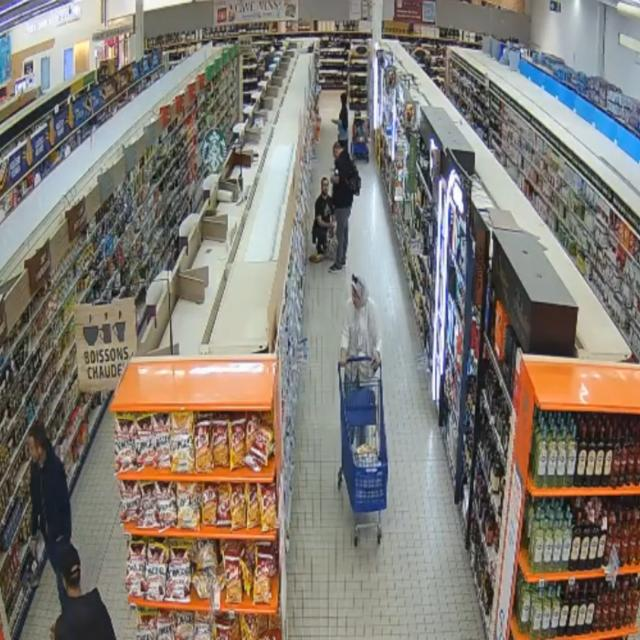article: (330, 227, 335, 238)
bags: (349, 161, 361, 196), (324, 229, 338, 257)
hands: (29, 536, 37, 557), (372, 352, 380, 371), (50, 621, 57, 639), (340, 349, 347, 366), (330, 175, 339, 184), (50, 624, 55, 639), (340, 356, 347, 366), (56, 536, 63, 542), (330, 223, 335, 228)
person: (28, 423, 71, 609), (53, 543, 115, 639), (340, 275, 381, 378), (330, 143, 353, 273), (311, 178, 334, 262), (332, 93, 348, 148)
